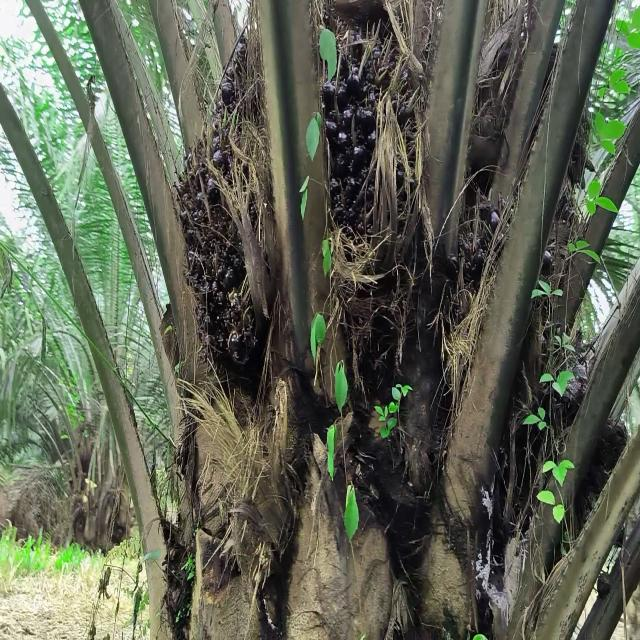palm-oil: (168, 138, 284, 427), (442, 188, 546, 478), (316, 27, 420, 307)
